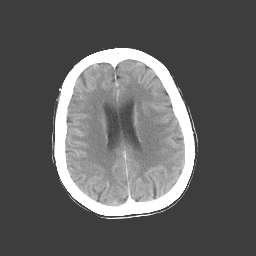ischemic: (93, 125, 106, 146)
